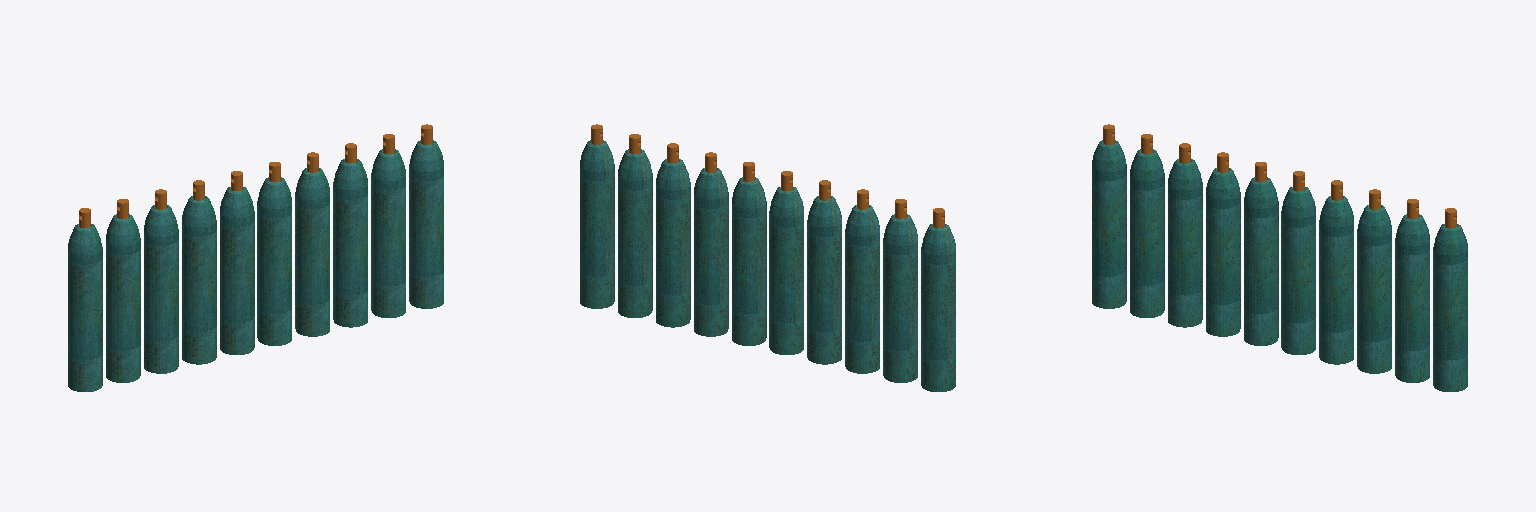
The picture shows the model from 3 angles: view 1: azimuth 30°, elevation 25°; view 2: azimuth 150°, elevation 25°; view 3: azimuth 330°, elevation 25°; orthographic projection.
Parts seen in each view (by area): view 1: tanqueOxigeno.002; view 2: tanqueOxigeno.002; view 3: tanqueOxigeno.002.
Part boxes in pixels (left/top/right/bottom): tanqueOxigeno.002: left=68, top=124, right=443, bottom=391; tanqueOxigeno.002: left=580, top=124, right=955, bottom=391; tanqueOxigeno.002: left=1092, top=124, right=1467, bottom=391.
Bounding box in the file's own units: 7.77 × 3.48 × 0.6342.
Materials: 3 (2 with a texture image).